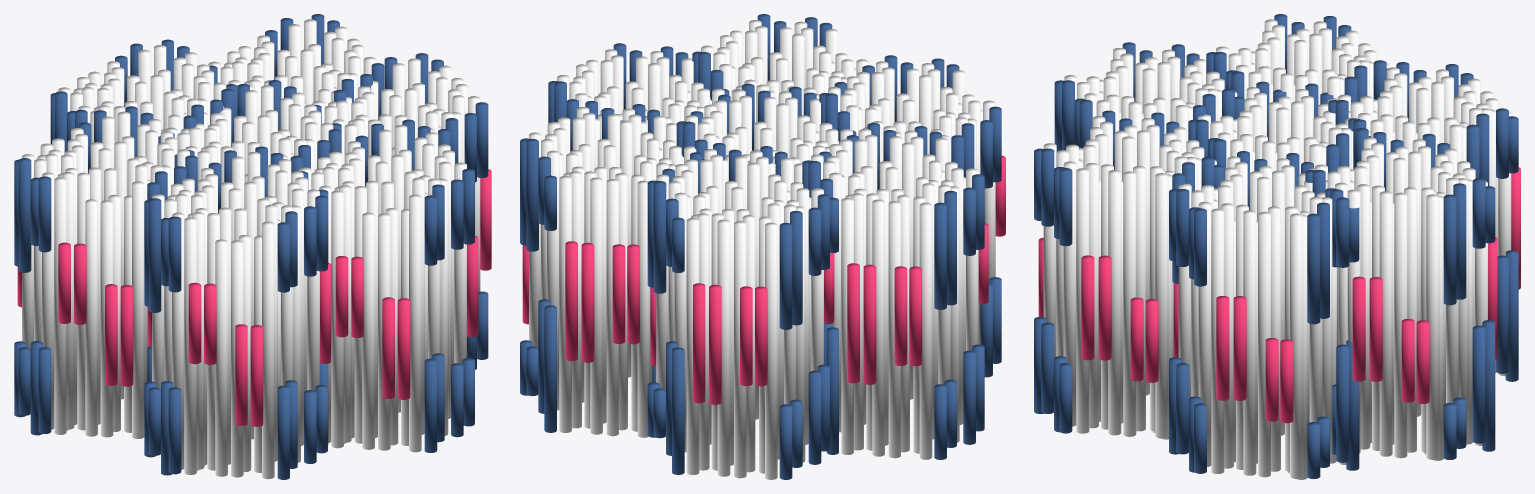
The model's file is hex.glb.
3 renders of one model, left to right at view 1: azimuth 30°, elevation 25°; view 2: azimuth 150°, elevation 25°; view 3: azimuth 270°, elevation 25°, orthographic. The views are drawn at different scales.
Parts seen in each view (by area): view 1: Cylinder.086, Cylinder.506, Cylinder.422, Cylinder.136, Cylinder.472, Cylinder.556, Cylinder.133, Cylinder.553, Cylinder.469, Cylinder.473, Cylinder.557, Cylinder.137 (+93 smaller); view 2: Cylinder.458, Cylinder.374, Cylinder.370, Cylinder.286, Cylinder.454, Cylinder.367, Cylinder.455, Cylinder.287, Cylinder.290, Cylinder.371, Cylinder.283, Cylinder.451 (+95 smaller); view 3: Cylinder.104, Cylinder.272, Cylinder.184, Cylinder.268, Cylinder.100, Cylinder.101, Cylinder.269, Cylinder.188, Cylinder.185, Cylinder.097, Cylinder.181, Cylinder.176 (+91 smaller).
Part boxes in pixels (x1,y1,x2,y2): Cylinder.086: [409, 194, 421, 452]; Cylinder.506: [262, 221, 274, 479]; Cylinder.422: [132, 181, 144, 438]; Cylinder.136: [362, 212, 374, 449]; Cylinder.472: [85, 199, 97, 436]; Cylinder.556: [215, 239, 227, 476]; Cylinder.133: [331, 190, 343, 448]; Cylinder.553: [184, 217, 196, 474]; Cylinder.469: [54, 177, 66, 434]; Cylinder.473: [100, 200, 113, 437]; Cylinder.557: [231, 240, 243, 477]; Cylinder.137: [378, 213, 390, 450]; Cylinder.458: [919, 202, 932, 459]; Cylinder.374: [765, 222, 777, 479]; Cylinder.370: [717, 219, 730, 476]; Cylinder.286: [590, 177, 602, 434]; Cylinder.454: [872, 199, 884, 456]; Cylinder.367: [686, 218, 699, 474]; Cylinder.455: [888, 201, 900, 458]; Cylinder.287: [606, 179, 618, 436]; Cylinder.290: [637, 180, 649, 437]; Cylinder.371: [734, 221, 746, 478]; Cylinder.283: [559, 176, 571, 432]; Cylinder.451: [841, 198, 853, 454]; Cylinder.104: [1155, 173, 1168, 438]; Cylinder.272: [1426, 194, 1439, 459]; Cylinder.184: [1243, 210, 1256, 475]; Cylinder.268: [1379, 191, 1392, 456]; Cylinder.100: [1108, 170, 1121, 435]; Cylinder.101: [1123, 171, 1136, 436]; Cylinder.269: [1394, 192, 1407, 458]; Cylinder.188: [1290, 213, 1302, 478]; Cylinder.185: [1258, 211, 1270, 477]; Cylinder.097: [1076, 168, 1089, 433]; Cylinder.181: [1211, 208, 1224, 473]; Cylinder.176: [1198, 201, 1211, 466].
Bounding box in the file's own units: 82.45 × 49.77 × 78.47.
